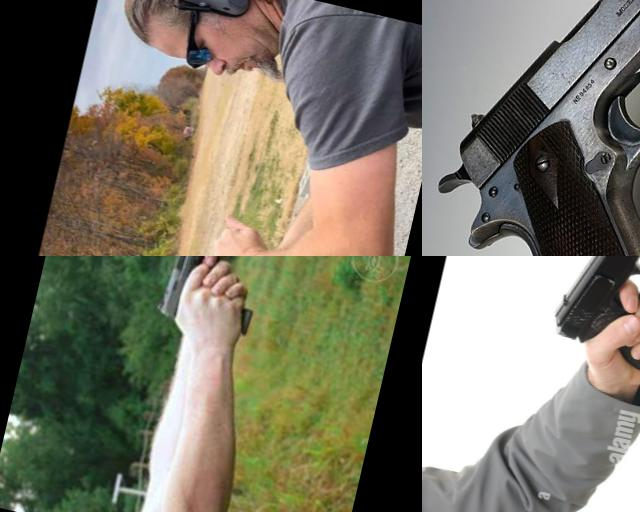handgun: (422, 0, 640, 256), (539, 256, 640, 378), (152, 256, 280, 340)
